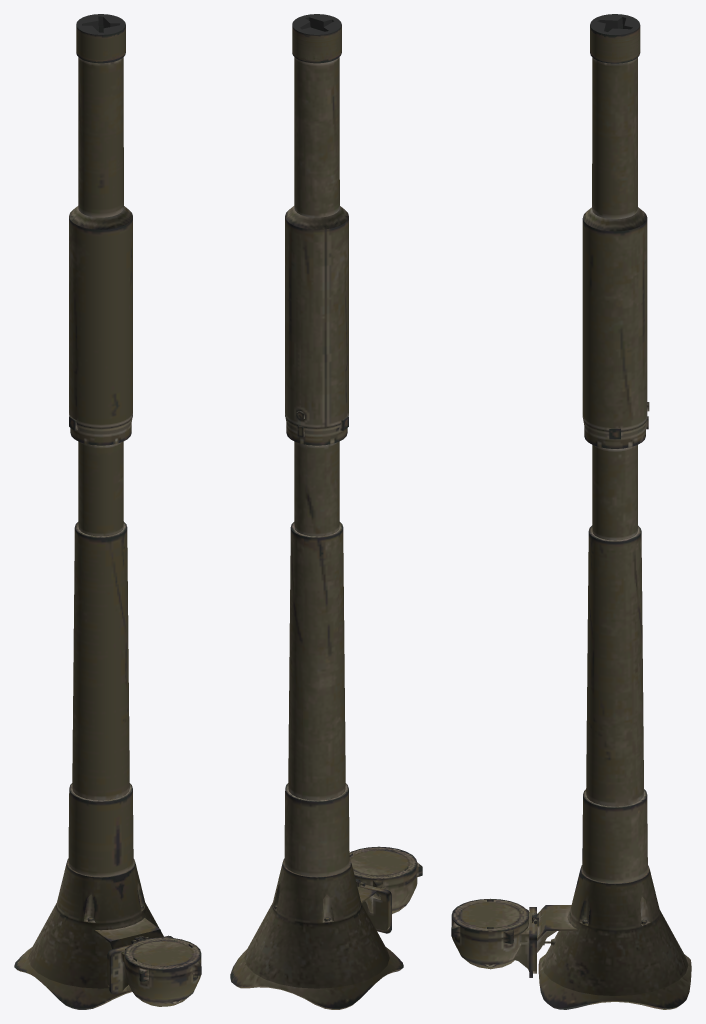
Rendered from Gun_03.glb.
3 views of the same model, side by side, from view 1: azimuth 30°, elevation 25°; view 2: azimuth 150°, elevation 25°; view 3: azimuth 270°, elevation 25° (orthographic).
Visible parts, largest first — view 1: set_0_group_0; view 2: set_0_group_0; view 3: set_0_group_0.
Boxes of the visible parts, x1,y1,x2,y2 form: set_0_group_0: (14, 14, 201, 1009); set_0_group_0: (230, 14, 422, 1009); set_0_group_0: (451, 14, 691, 1009).
Size of the model in its own units: 0.686 by 4.73 by 1.07.
1 material, 1 textured.
